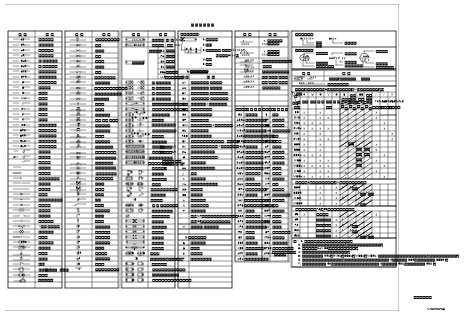room: (211, 266, 230, 271)
staircase: (283, 91, 288, 94)
